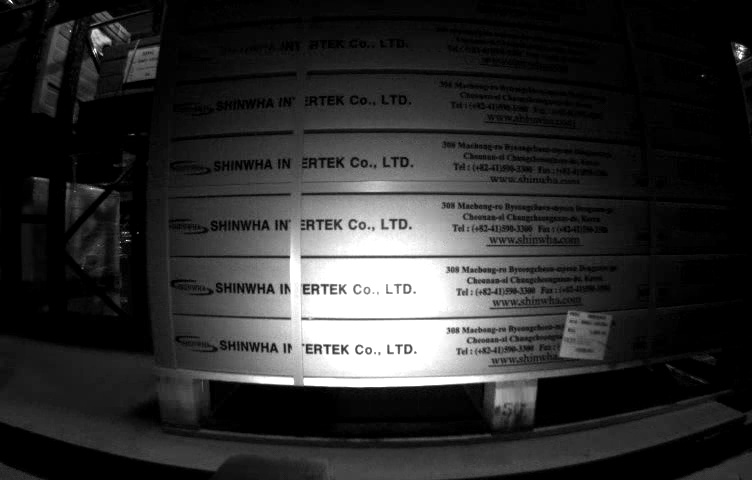True Barcode: (558, 308, 614, 360)
